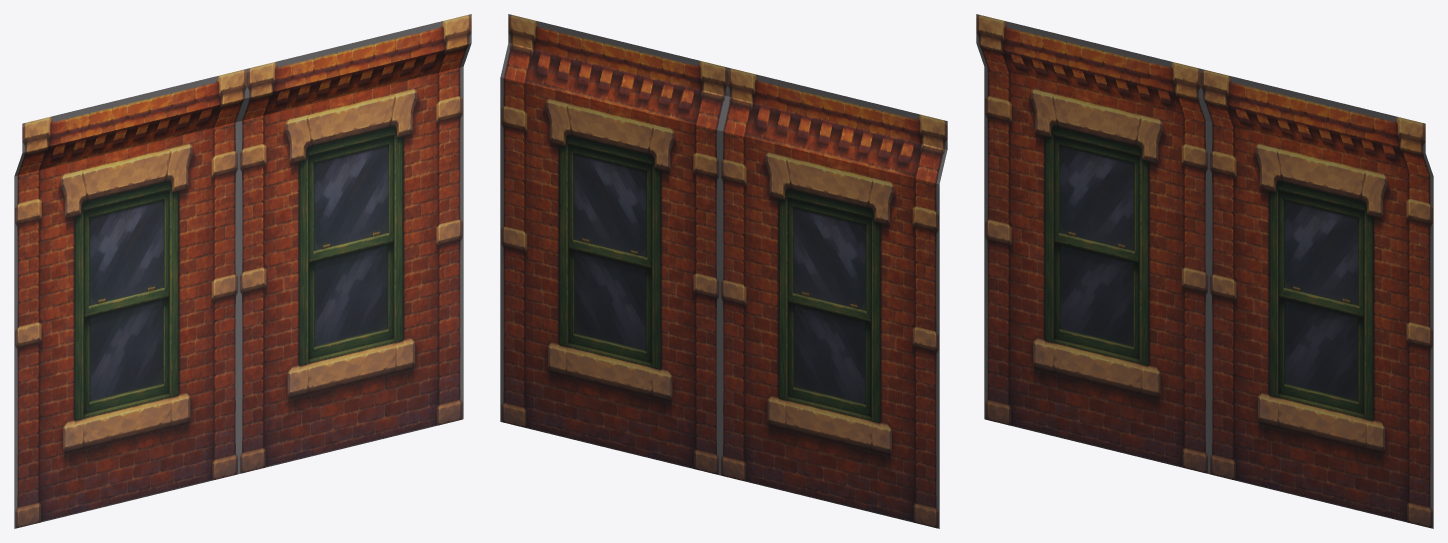
File: BRK_U_Bay4B.fbx
The picture shows the model from 3 angles, left to right: view 1: azimuth 30°, elevation 25°; view 2: azimuth 150°, elevation 25°; view 3: azimuth 330°, elevation 25°; orthographic projection. The views are drawn at different scales.
Parts seen in each view (by area): view 1: BRK_U_Bay4B; view 2: BRK_U_Bay4B; view 3: BRK_U_Bay4B.
Part boxes in pixels (x1=…): BRK_U_Bay4B: x1=14, y1=14, x2=471, y2=528; BRK_U_Bay4B: x1=500, y1=14, x2=947, y2=528; BRK_U_Bay4B: x1=976, y1=14, x2=1433, y2=528.
Size of the model in its own units: 4 by 0.125 by 3.5.
Materials: 1 (1 with a texture image).
